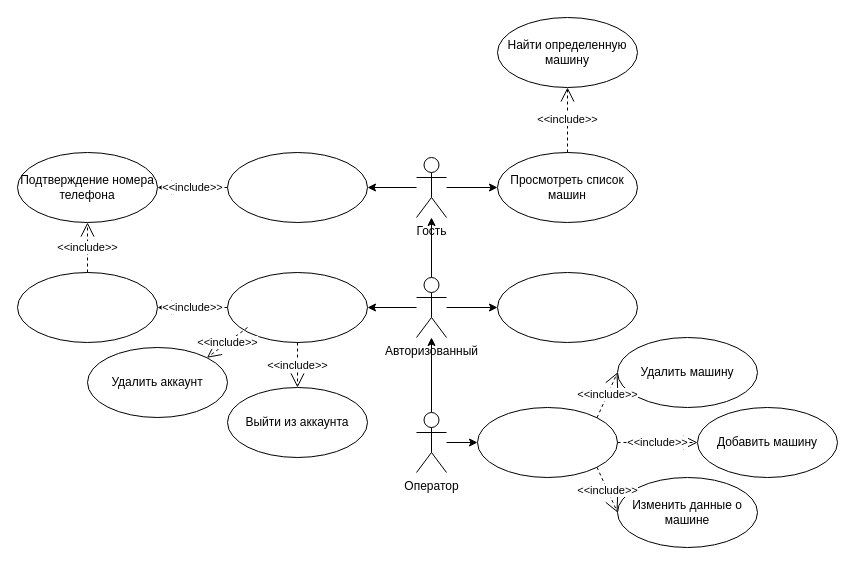
This 855x565 diagram has some shape labels left out. Each missing label, with the centre of its shape:
"Авторизация" belongs at point 297,187.
"Заказать машину" belongs at point 567,307.
"Изменить пароль" belongs at point 87,307.
"Работа с машинами" belongs at point 547,442.
"Редактировать профиль" belongs at point 297,307.
